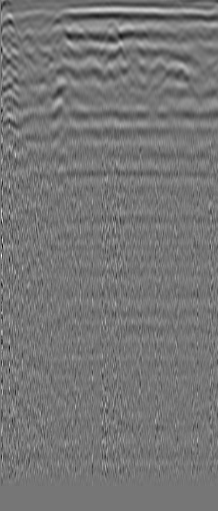오수: (17, 24, 37, 44)
우수: (175, 26, 202, 48)
